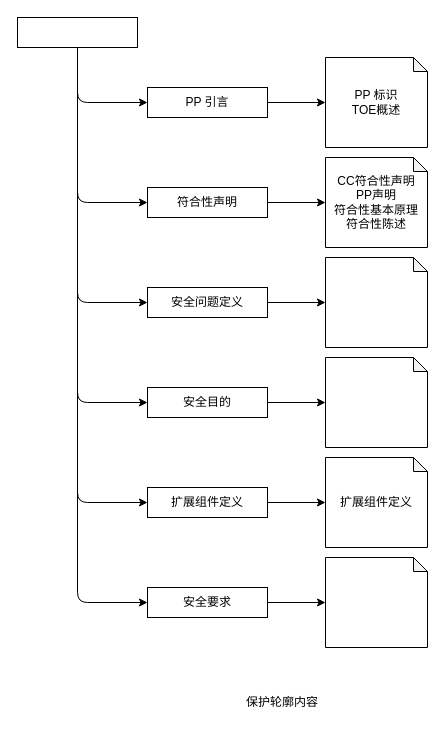
Some shapes in this 445 by 735 pixel diagram are drawn without their labels. The shapes that lost their labels are listed below. From the top down, each one's box as (x1, y1, x2, y2) in pixels, then its label:
(16, 16, 138, 48): 保护轮廓（PP）
(324, 256, 428, 348): 威胁 组织安全须知 假设
(324, 356, 428, 448): TOE安全目的、运行环境安全目的、安全原理
(324, 556, 428, 648): 安全功能要求 安全保障要求 安全要求基本原理
